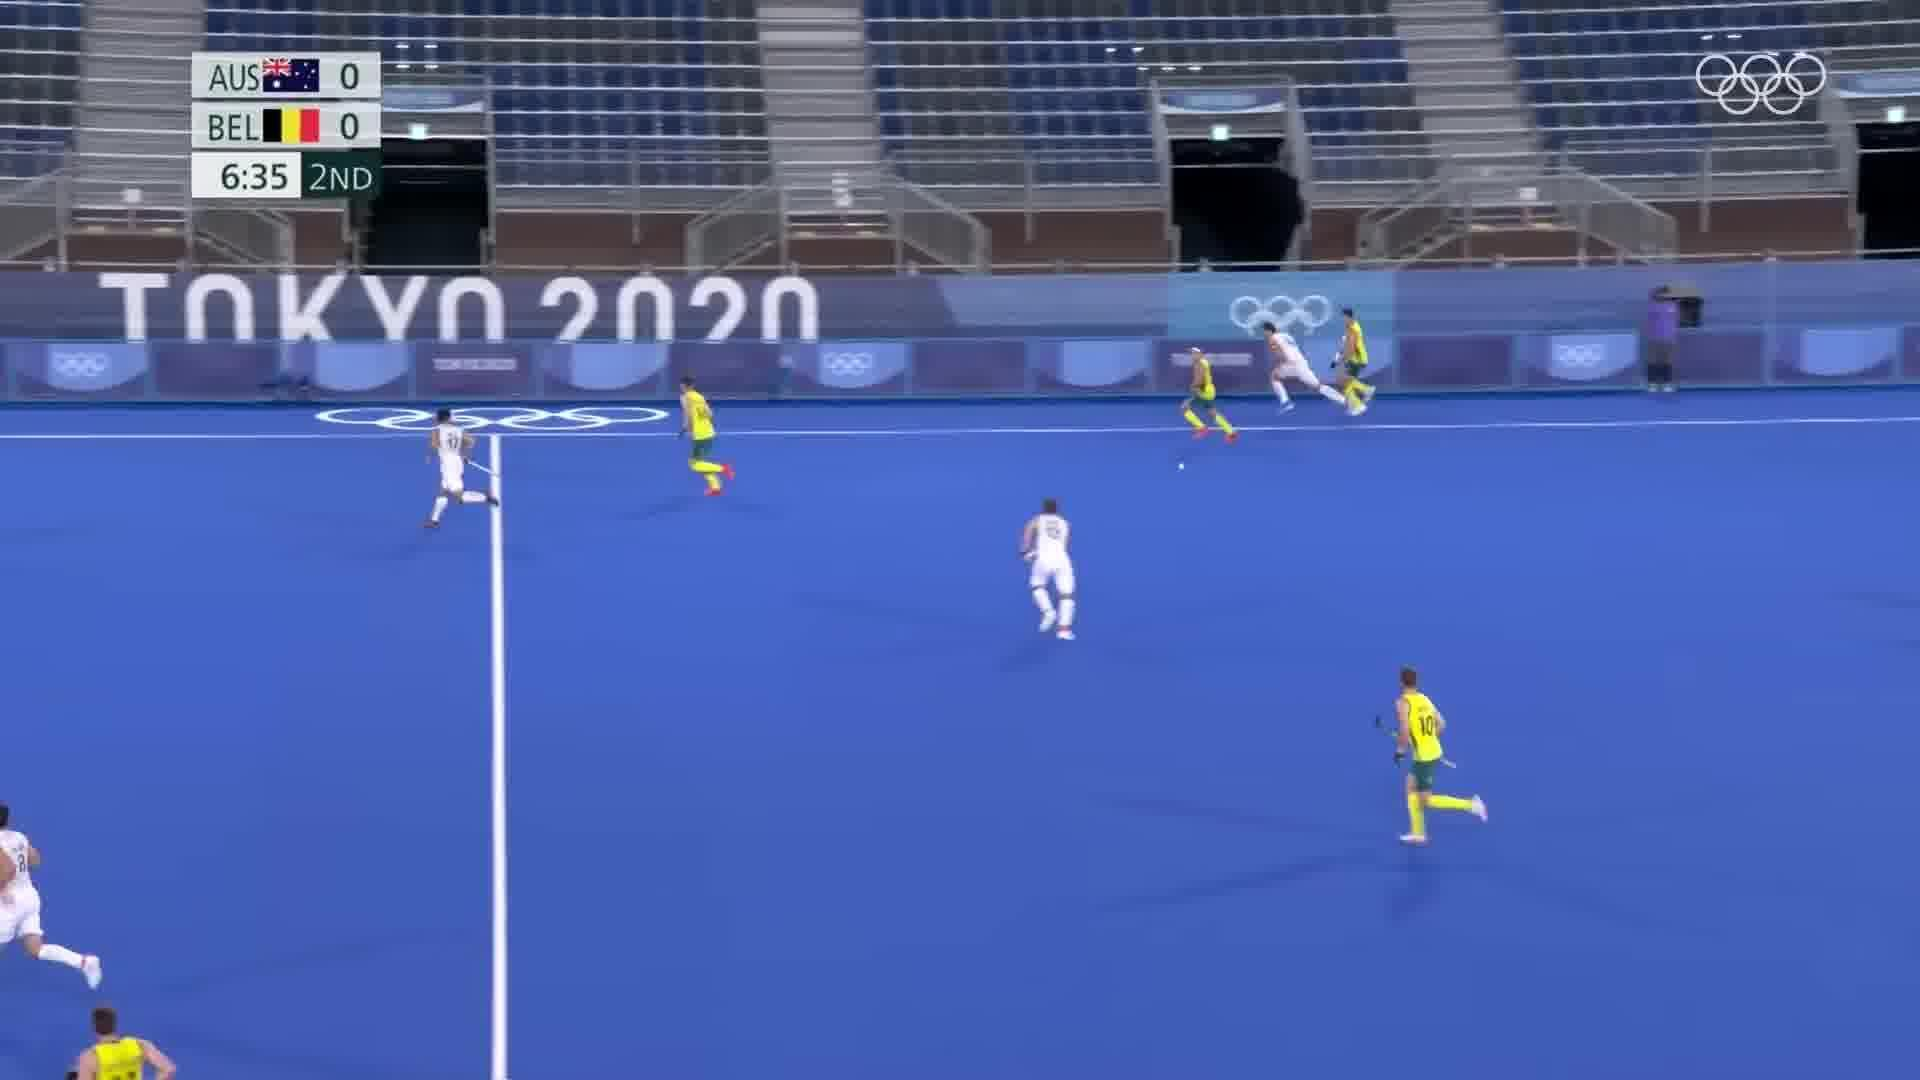ball: (1171, 459, 1192, 475)
